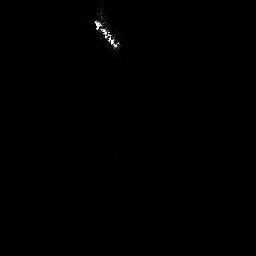ship: (91, 18, 123, 51)
